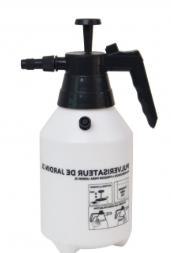PULVERISATEUR: (12, 12, 166, 253)
